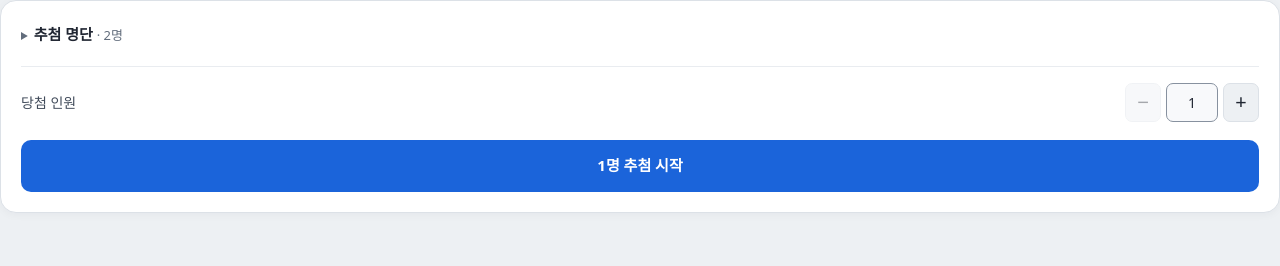
Test: LotterySettingsPanel › keeps the stepper between one and the participant count
expect the button named "당첨 인원 줄이기" is disabled: met, box [1125,82,1161,122]
Click the button named "당첨 인원 늘리기" at coordinates (1241, 102), box [1223,82,1259,122]
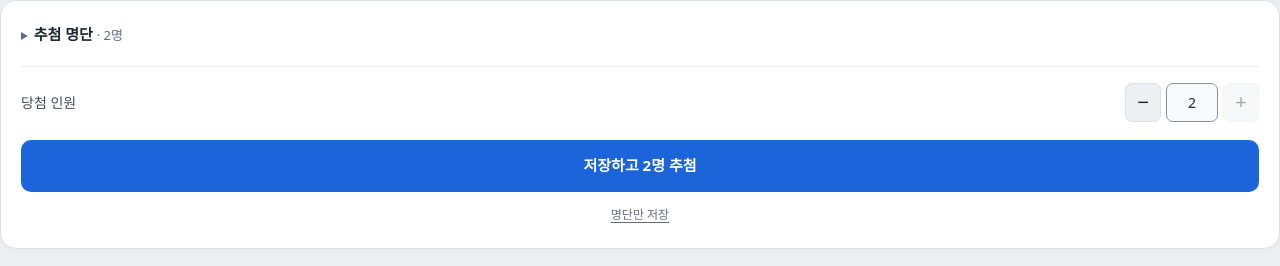
expect the number field labelled "당첨 인원" holds "2": met, box [1166,82,1218,122]
expect the button named "당첨 인원 늘리기" is disabled: met, box [1223,82,1259,122]
Click the button named "당첨 인원 줄이기" at coordinates (1143, 102), box [1125,82,1161,122]
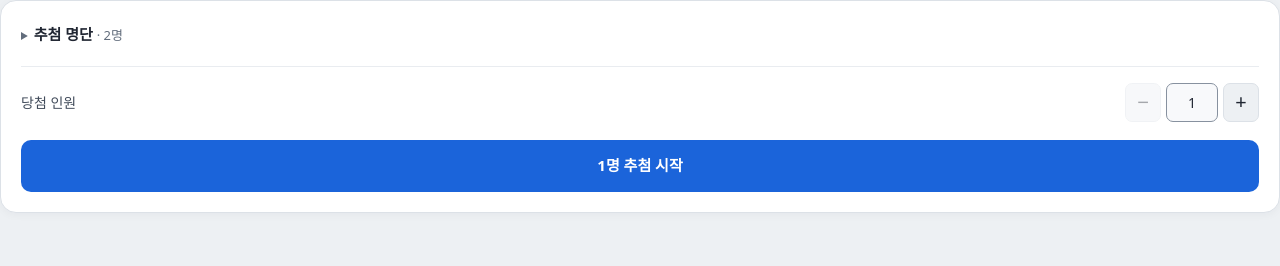
expect the number field labelled "당첨 인원" holds "1": met, box [1166,82,1218,122]
